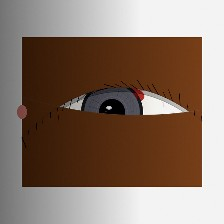hemorrhage_spot: (81, 67, 154, 126)
